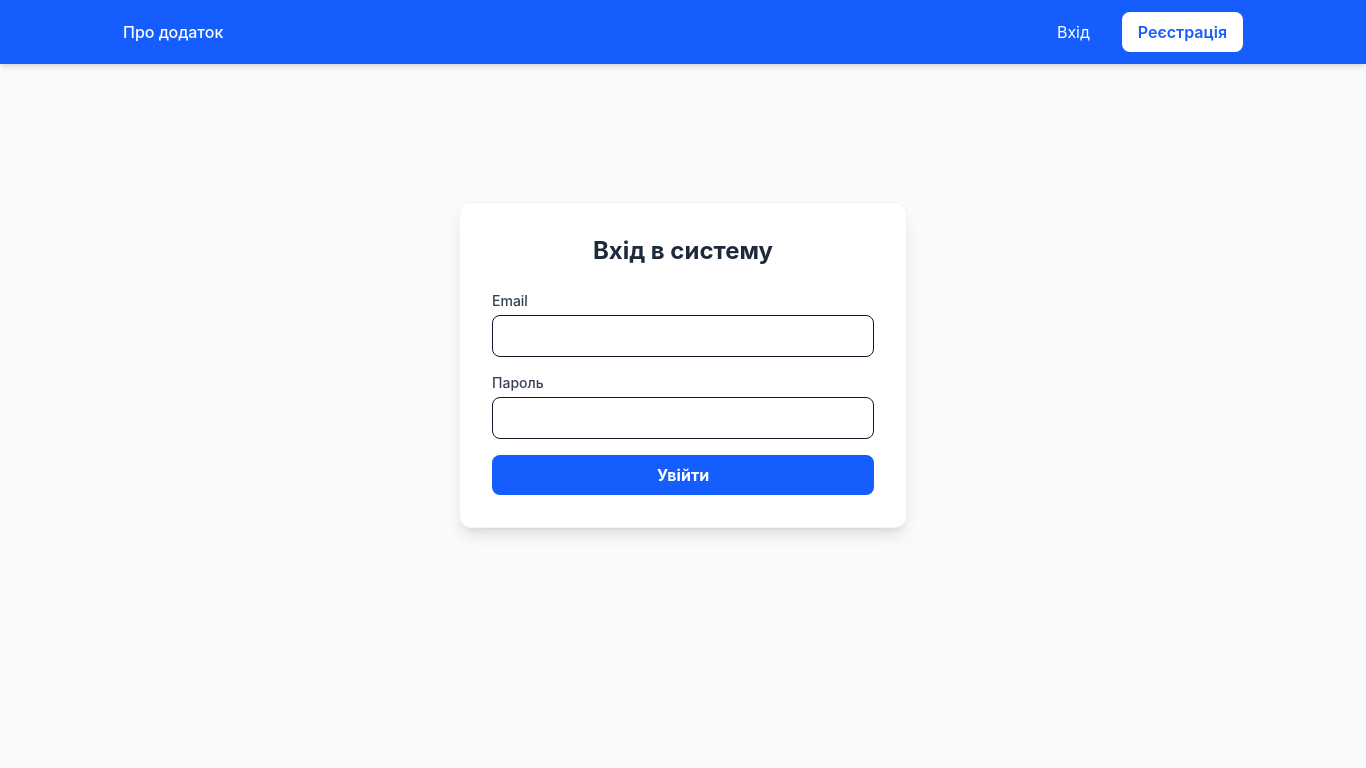
Test case: Authentication Flow › should show error on invalid login
Step 1. Type "nonexistent@example.com" into the field labelled "Email" → (683, 336), box [492,315,874,357]
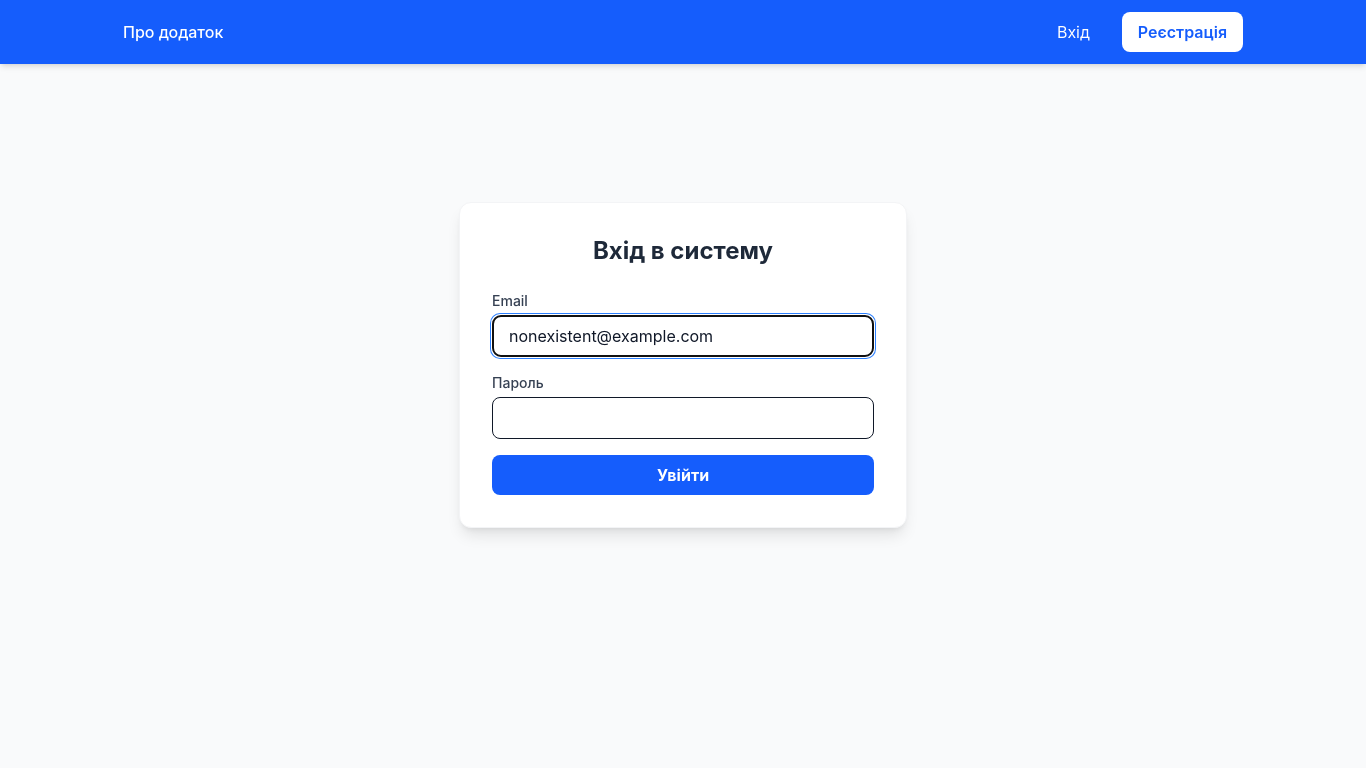
Step 2. Type "wrongpassword" into the password field labelled "Пароль" → (683, 418), box [492,397,874,439]
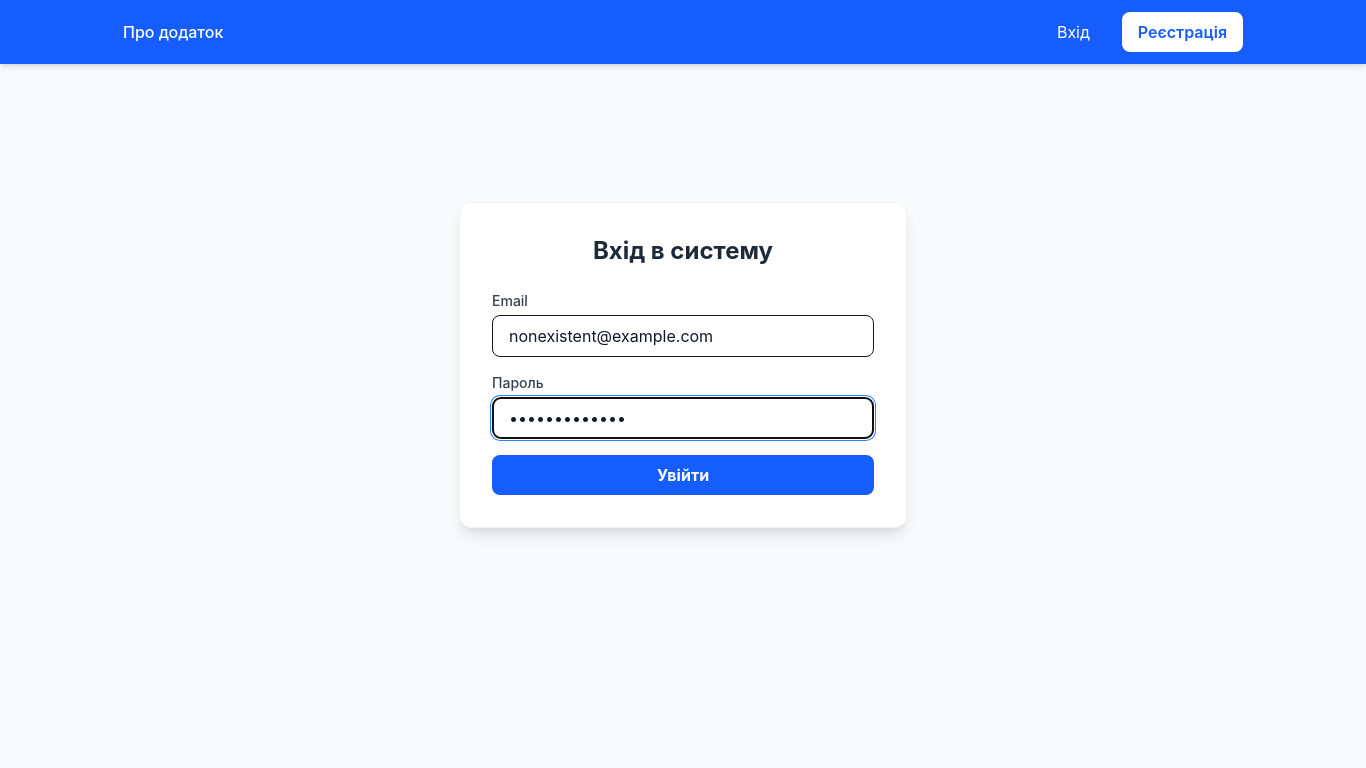
Step 3. Click the button "Увійти" → (683, 475), box [492,455,874,495]
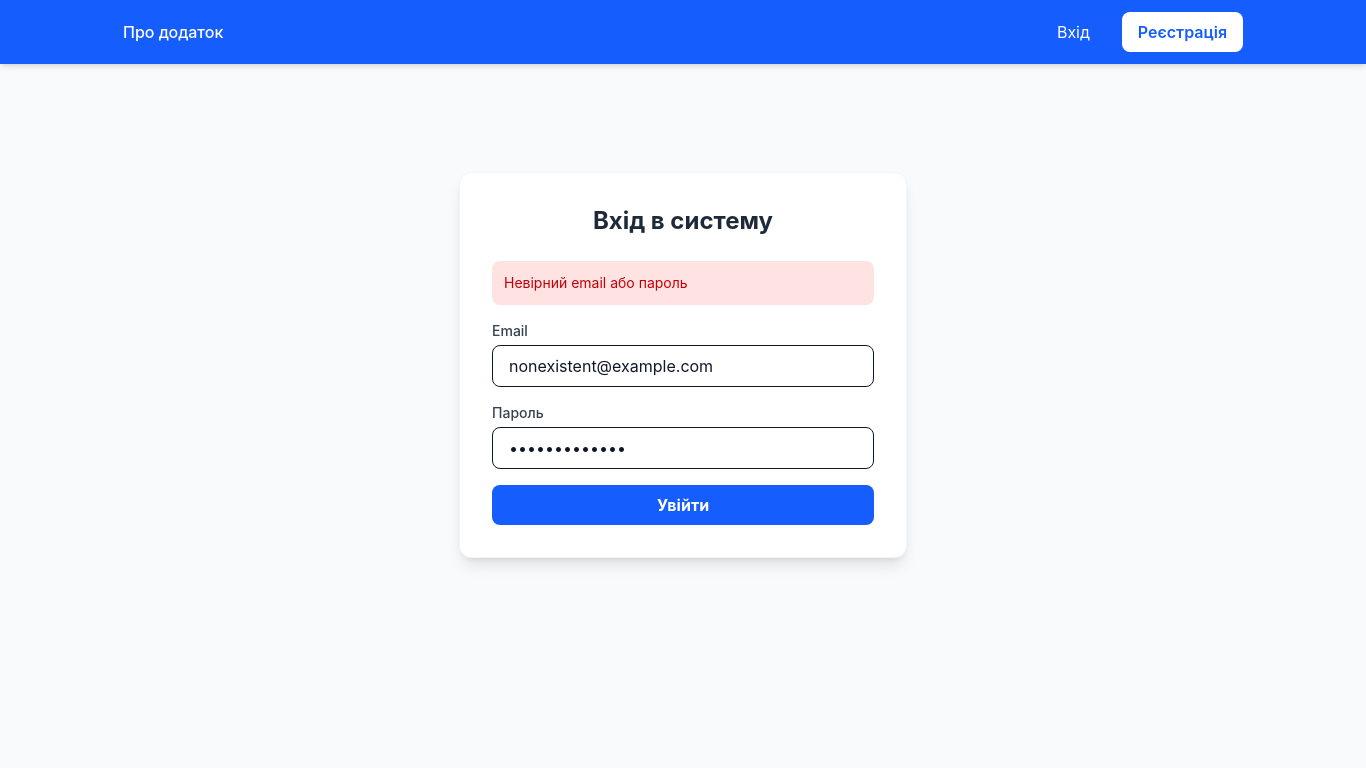
Now the text "Невірний email або пароль" is shown, box [492,261,874,305]
